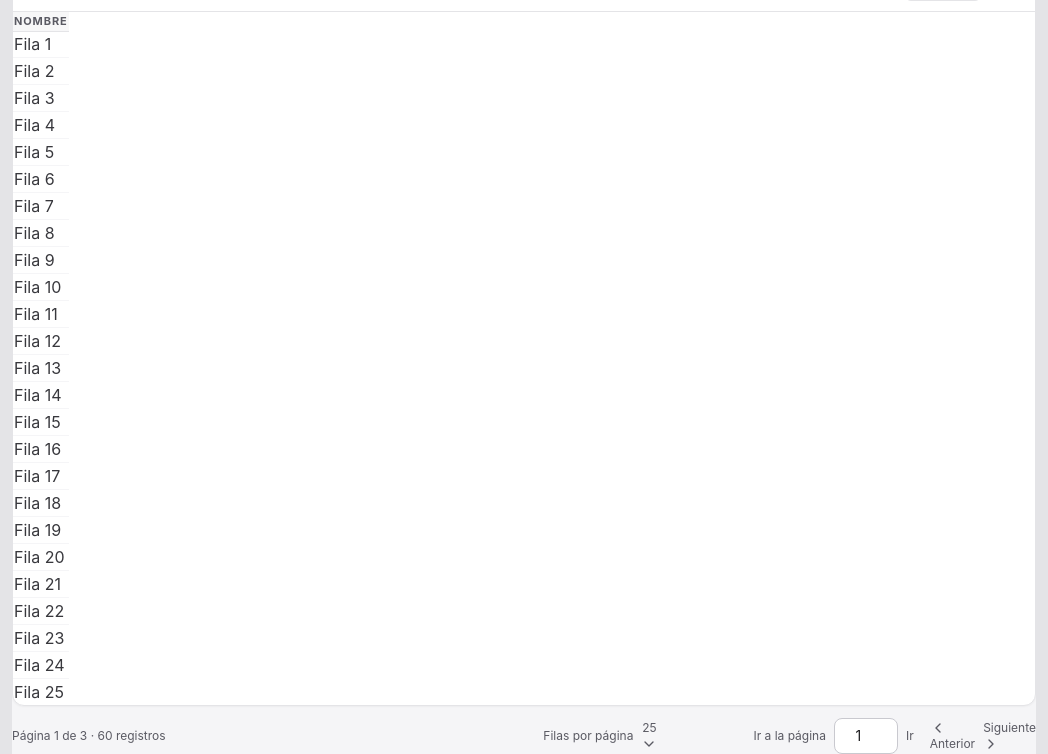
Test: DataTable · paginación › parte en el cliente una tabla que llegó entera y deja navegar
(page scrolled)
Check: the text "Página 1 de 3 · 60 registros" is shown, box [12,728,166,744]
What coordinates should you click on to do the following:
click the button "Siguiente"
I would click on:
 (1010, 736)
Its box is [983,720,1036,752].
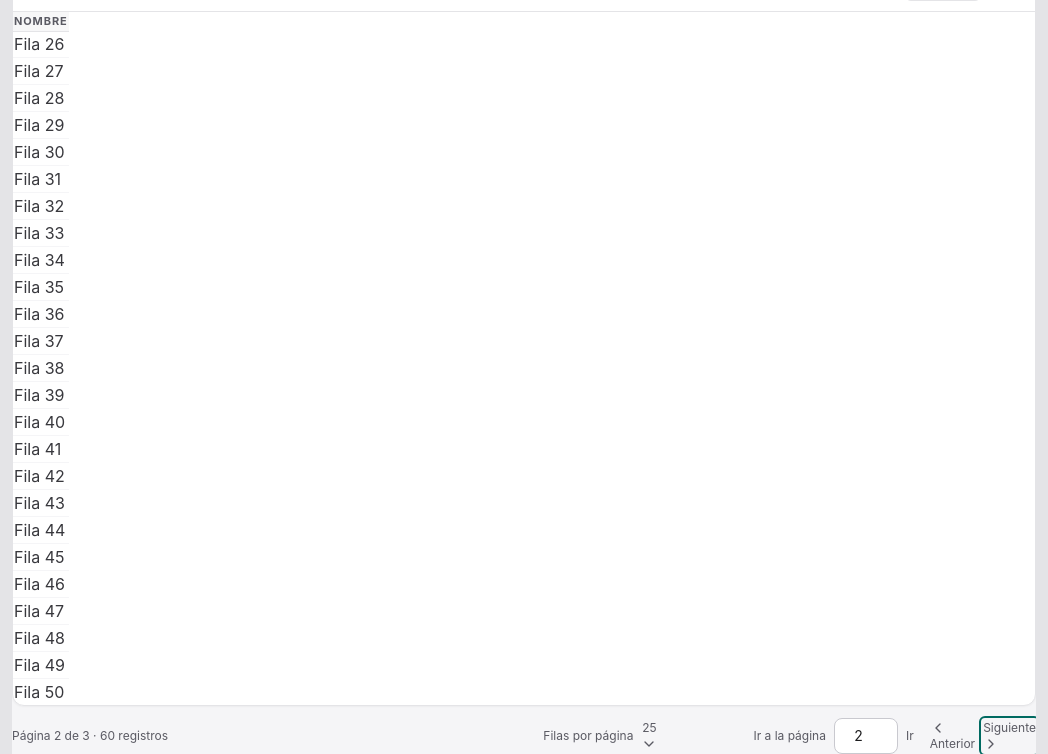
Check: the text "Fila 26" is shown, box [13,30,69,57]
Check: the text "Fila 1" is gone
